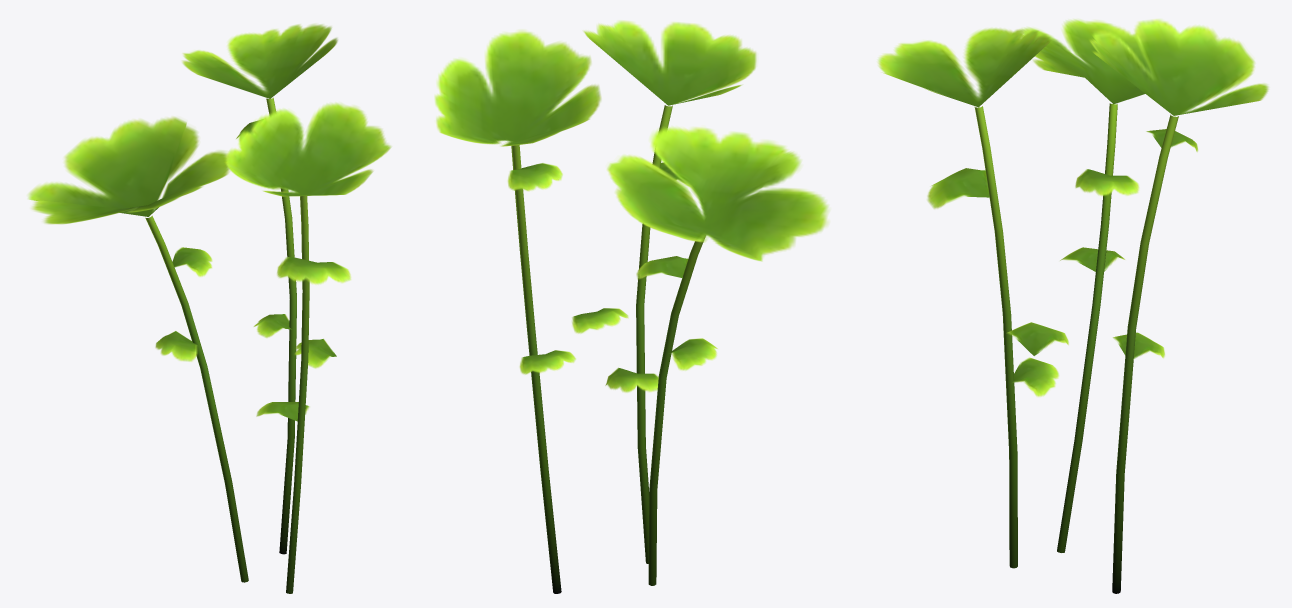
File: clover.glb
The picture shows the model from 3 angles, left to right: view 1: azimuth 30°, elevation 25°; view 2: azimuth 150°, elevation 25°; view 3: azimuth 270°, elevation 25°; orthographic projection. The views are drawn at different scales.
Parts seen in each view (by area): view 1: Clover_1; view 2: Clover_1; view 3: Clover_1.
Boxes of the visible parts, x1,y1,x2,y2 form: Clover_1: (28, 24, 391, 593); Clover_1: (434, 20, 828, 593); Clover_1: (878, 19, 1268, 593).
Bounding box in the file's own units: 0.7963 × 1.14 × 0.7639.
1 material, 1 textured.
